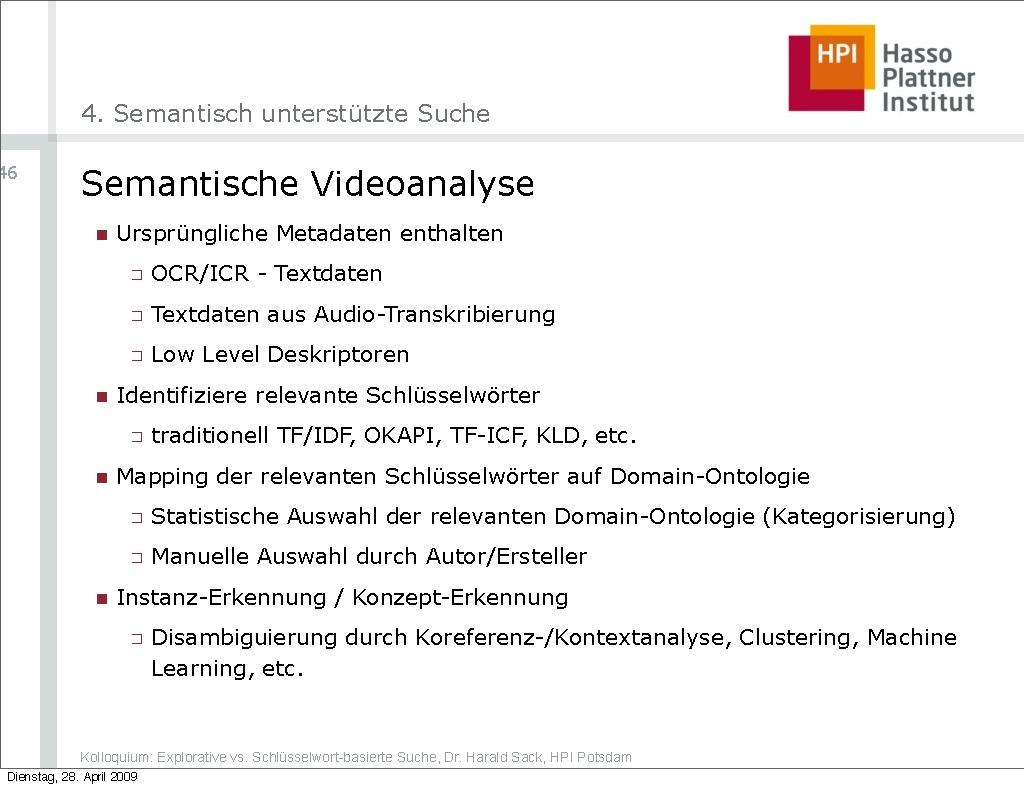paragraph: (89, 219, 1000, 685)
subtitle: (79, 163, 548, 212)
title: (70, 84, 500, 137)
